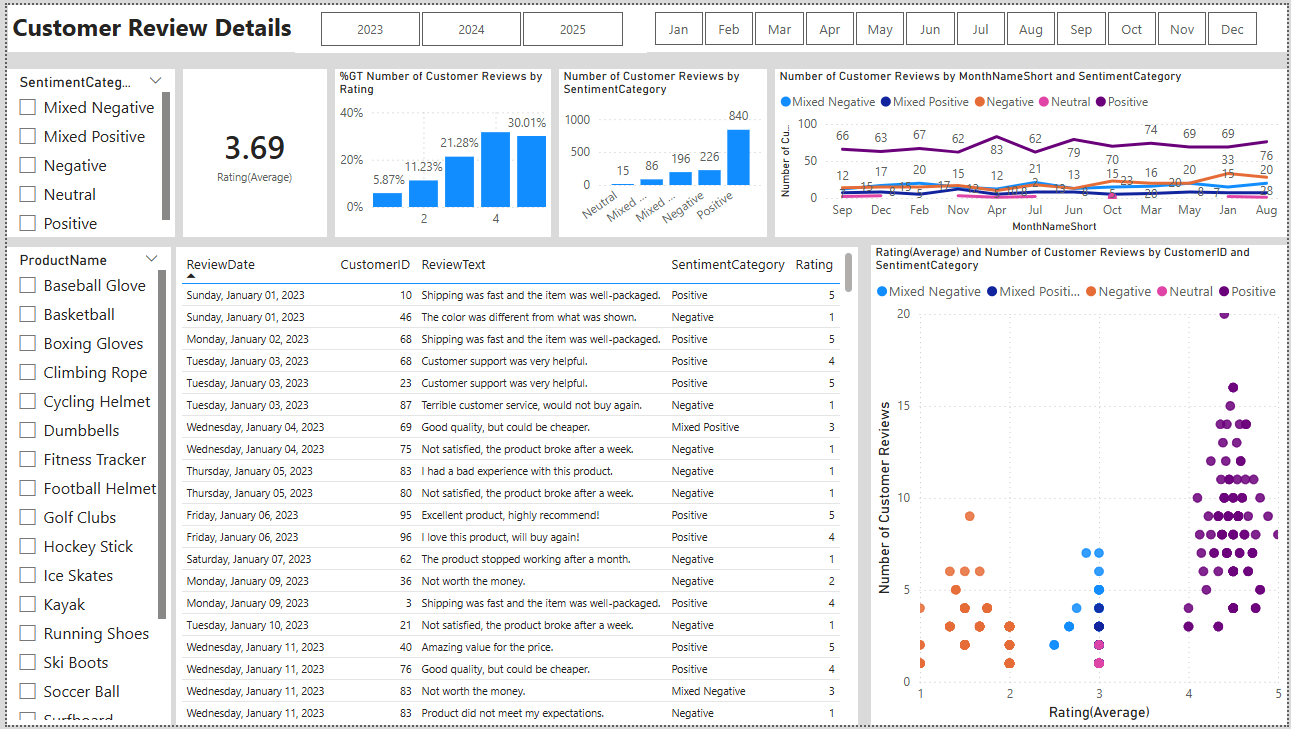

Layout of this report page (visuals, bound fields, positions):
{"tool":"powerbi","page":{"name":"Customer Review Details","canvas":[1280,720],"ordinal":3},"visuals":[{"type":"textbox","box":[1.1,0,1278.9,47.2],"z":0},{"type":"slicer","fields":{"Values":["dim_products.ProductName"]},"box":[0,242,164,478],"z":1000},{"type":"slicer","fields":{"Values":["Calendar.MonthNameShort"]},"box":[622.2,0,652.2,46.7],"z":5000},{"type":"slicer","fields":{"Values":["Calendar.Year"]},"box":[288,0,352,48],"z":6000},{"type":"cardVisual","fields":{"Data":["_Calculation.Rating(Average)"]},"box":[176,64,144,168],"z":6001},{"type":"clusteredColumnChart","fields":{"Category":["fact_customer_reviews_with_sentiment.Rating"],"Y":["_Calculation.Number of Customer Reviews"]},"box":[328,64,216,168],"z":6002},{"type":"clusteredColumnChart","fields":{"Y":["_Calculation.Number of Customer Reviews"],"Category":["fact_customer_reviews_with_sentiment.SentimentCategory"]},"box":[552,64,208,168],"z":6003},{"type":"lineChart","fields":{"Y":["_Calculation.Number of Customer Reviews"],"Series":["fact_customer_reviews_with_sentiment.SentimentCategory"],"Category":["Calendar.MonthNameShort"]},"box":[768,64,512,168],"z":6004},{"type":"tableEx","fields":{"Values":["fact_customer_reviews_with_sentiment.ReviewDate","fact_customer_reviews_with_sentiment.CustomerID","fact_customer_reviews_with_sentiment.ReviewText","fact_customer_reviews_with_sentiment.SentimentCategory","fact_customer_reviews_with_sentiment.Rating"]},"box":[169,242,682,478],"z":6005},{"type":"scatterChart","fields":{"X":["_Calculation.Rating(Average)"],"Category":["fact_customer_reviews_with_sentiment.CustomerID"],"Y":["_Calculation.Number of Customer Reviews"],"Series":["fact_customer_reviews_with_sentiment.SentimentCategory"]},"box":[864,240,416,480],"z":6006},{"type":"slicer","fields":{"Values":["fact_customer_reviews_with_sentiment.SentimentCategory"]},"box":[0,64,168,168],"z":6007}]}

Visuals, with their boxes in screenshot pixels (x1, y1, x2, y2), scaled from the page's 1280x720 canvas onto the 1291x729 screenshot:
textbox: rect(1, 0, 1290, 48)
slicer - dim_products.ProductName: rect(0, 245, 165, 728)
slicer - Calendar.MonthNameShort: rect(628, 0, 1285, 47)
slicer - Calendar.Year: rect(290, 0, 646, 49)
cardVisual - _Calculation.Rating(Average): rect(178, 65, 323, 235)
clusteredColumnChart - fact_customer_reviews_with_sentiment.Rating x _Calculation.Number of Customer Reviews: rect(331, 65, 549, 235)
clusteredColumnChart - _Calculation.Number of Customer Reviews x fact_customer_reviews_with_sentiment.SentimentCategory: rect(557, 65, 767, 235)
lineChart - _Calculation.Number of Customer Reviews x fact_customer_reviews_with_sentiment.SentimentCategory: rect(775, 65, 1290, 235)
tableEx - fact_customer_reviews_with_sentiment.ReviewDate x fact_customer_reviews_with_sentiment.CustomerID: rect(170, 245, 858, 728)
scatterChart - _Calculation.Rating(Average) x fact_customer_reviews_with_sentiment.CustomerID: rect(871, 243, 1290, 728)
slicer - fact_customer_reviews_with_sentiment.SentimentCategory: rect(0, 65, 169, 235)
